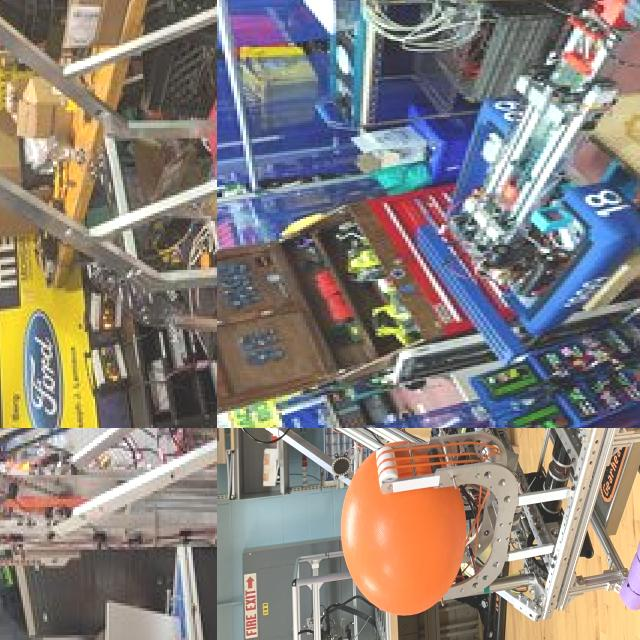FRC-Robots: (0, 0, 217, 426), (405, 0, 640, 369), (217, 428, 640, 622), (0, 428, 217, 640)
